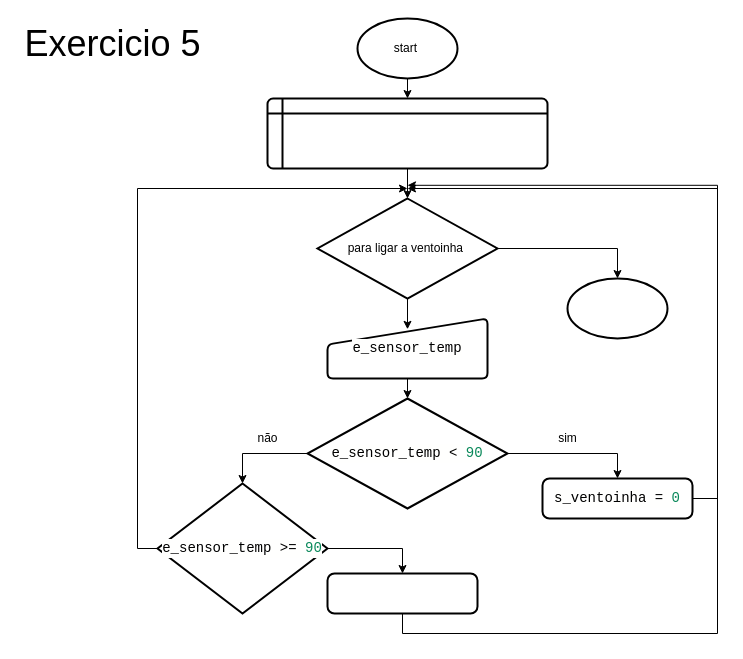
Some shapes in this 743 by 659 pixel diagram are drawn without their labels. The shapes that lost their labels are listed below. From the top down, each one's box as (x1, y1, x2, y2) in pixels, then its label:
(266, 97, 548, 169): e_sensor_temp,s_ventoinha
(566, 277, 668, 339): End
(326, 572, 478, 614): s_ventoinha = 1
